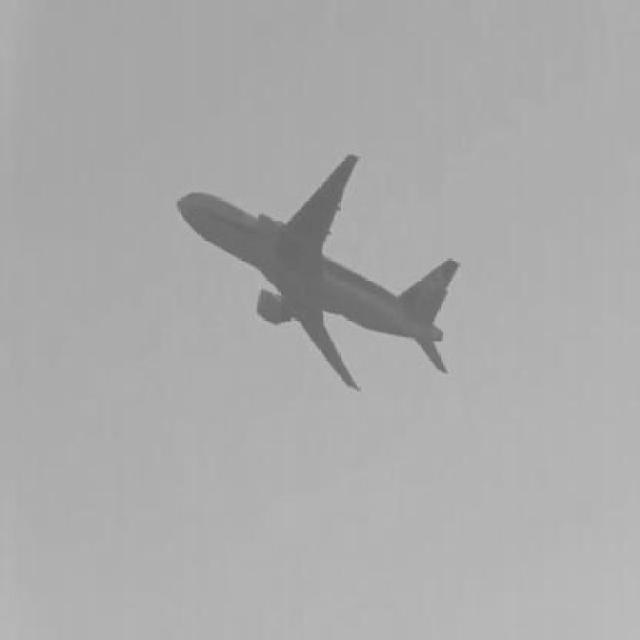aeroplane: (177, 155, 466, 398)
